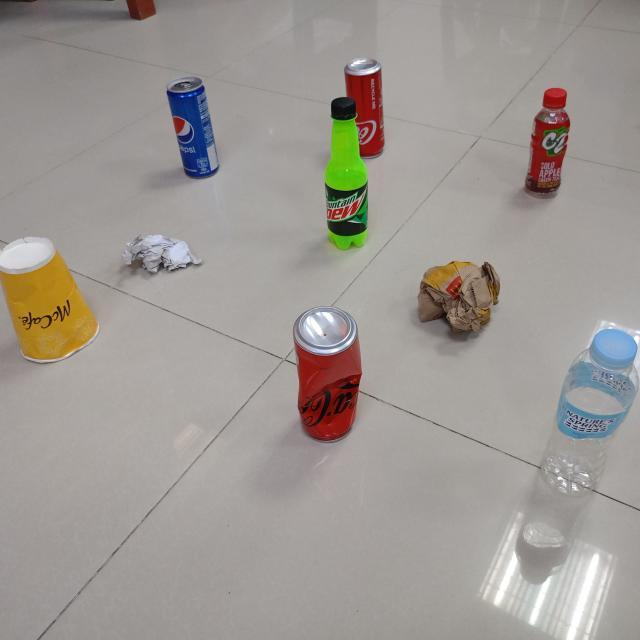recyclable waste: (532, 322, 640, 500), (0, 231, 106, 370), (287, 298, 367, 449), (318, 92, 373, 255), (410, 254, 505, 342), (161, 72, 225, 184), (519, 83, 575, 201), (340, 52, 390, 162), (118, 228, 206, 278)
